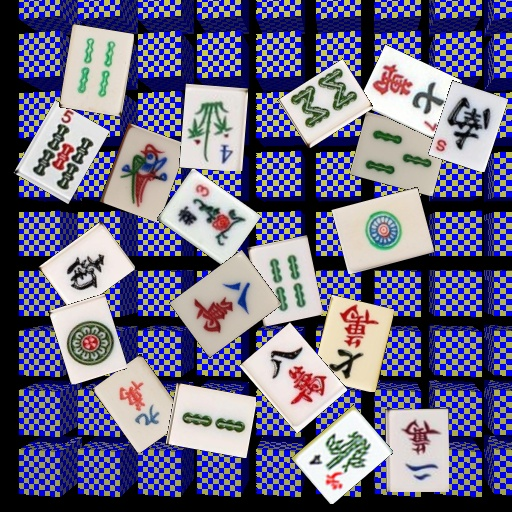bamboo-1: (99, 123, 187, 223)
bamboo-2: (165, 383, 256, 458)
bamboo-3: (349, 111, 448, 196)
bamboo-4: (59, 24, 134, 117), (247, 235, 323, 326)
bamboo-5: (13, 100, 109, 204)
bamboo-8: (277, 58, 373, 148)
bonus-bamboo: (291, 404, 393, 504), (179, 83, 248, 171)
bonus-chrysanthemum: (157, 168, 261, 267)
characters-2: (385, 408, 449, 492)
characters-7: (357, 44, 462, 139), (312, 294, 394, 392)
characters-8: (169, 250, 281, 358), (239, 322, 347, 433)
characters-9: (91, 354, 186, 453)
dots-1: (331, 187, 434, 274), (48, 293, 127, 384)
honors-south: (38, 221, 135, 314), (428, 80, 508, 172)
